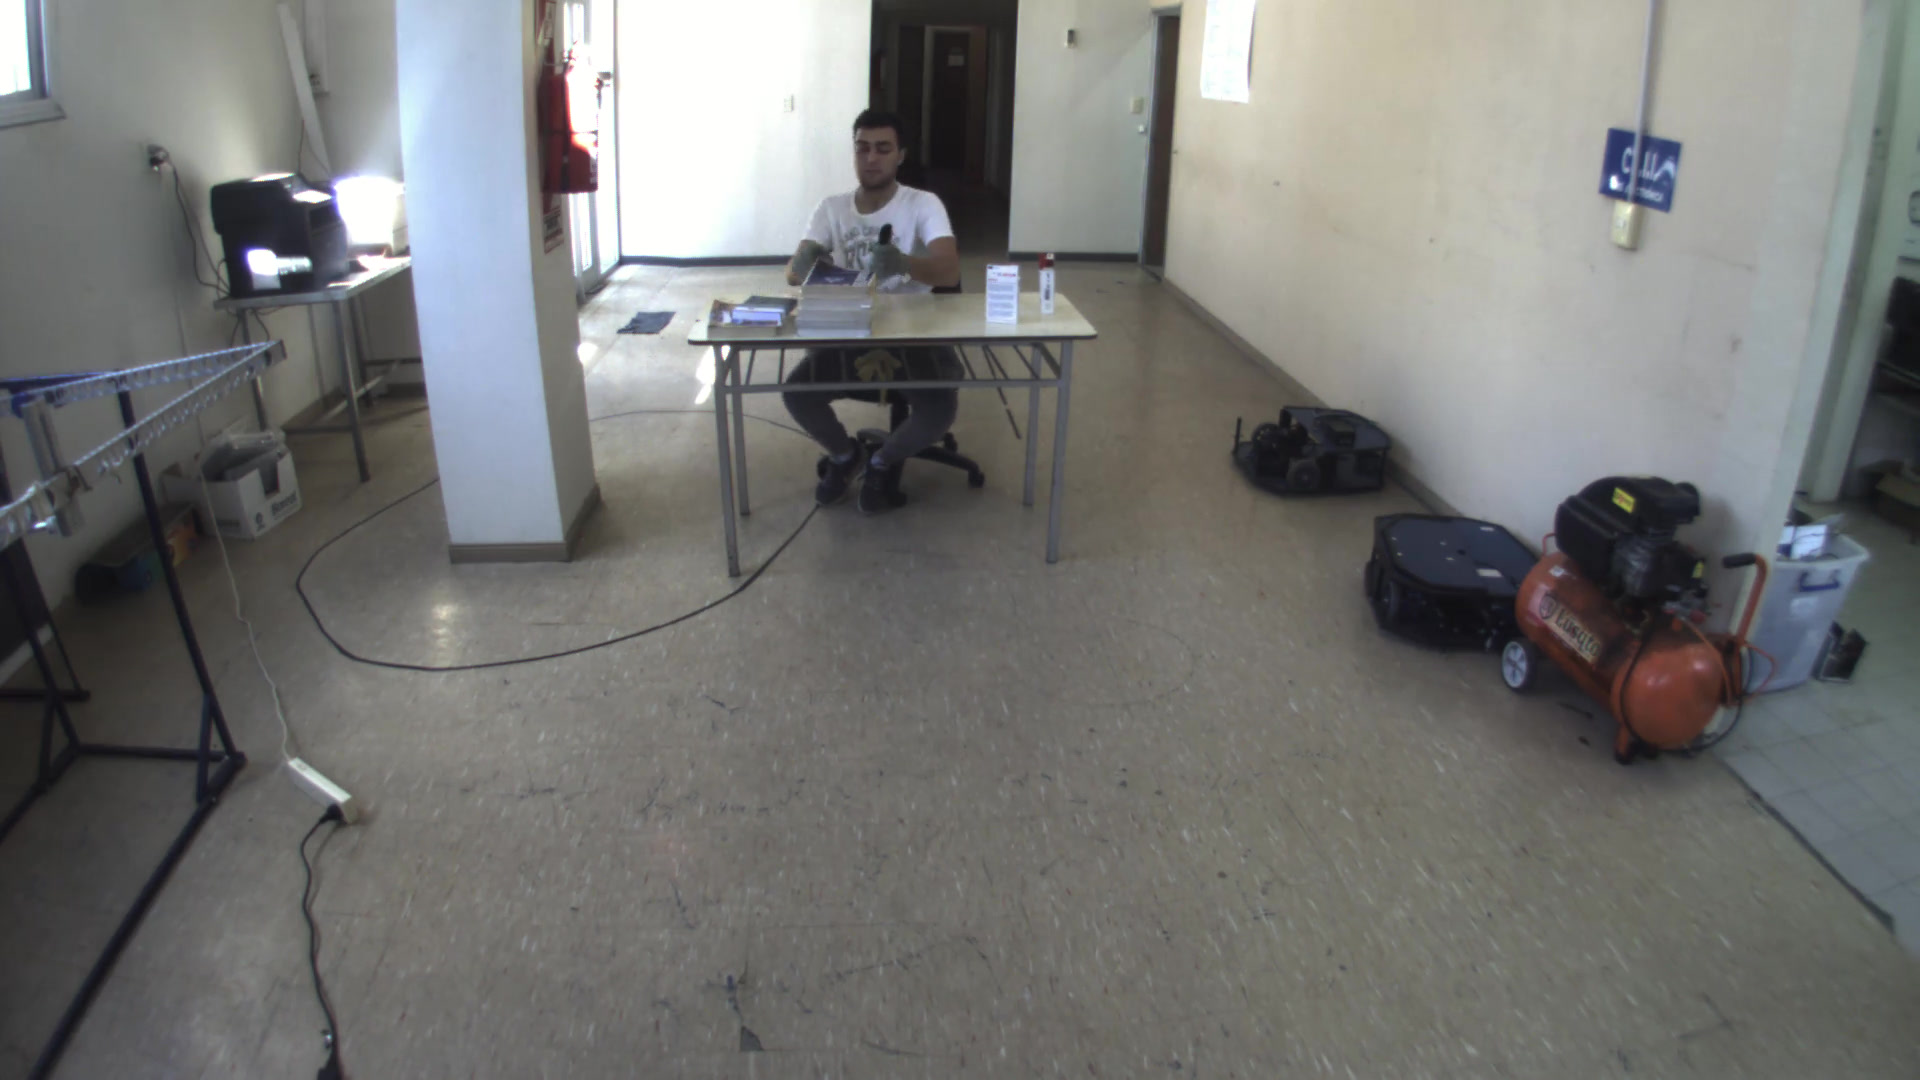hand: (861, 243, 918, 284), (789, 243, 835, 278)
